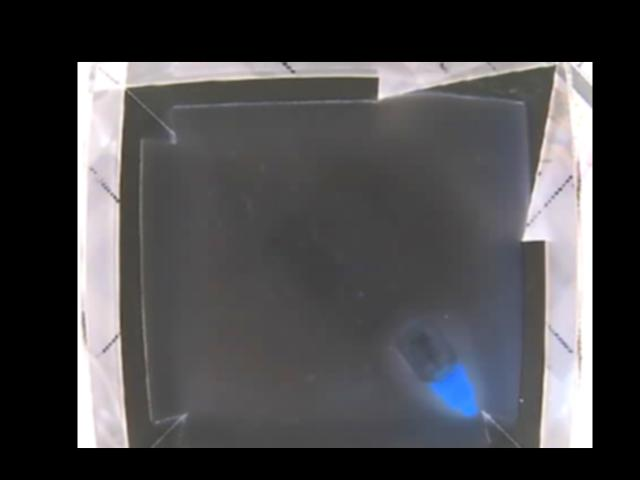Bottle: (392, 315, 480, 419)
